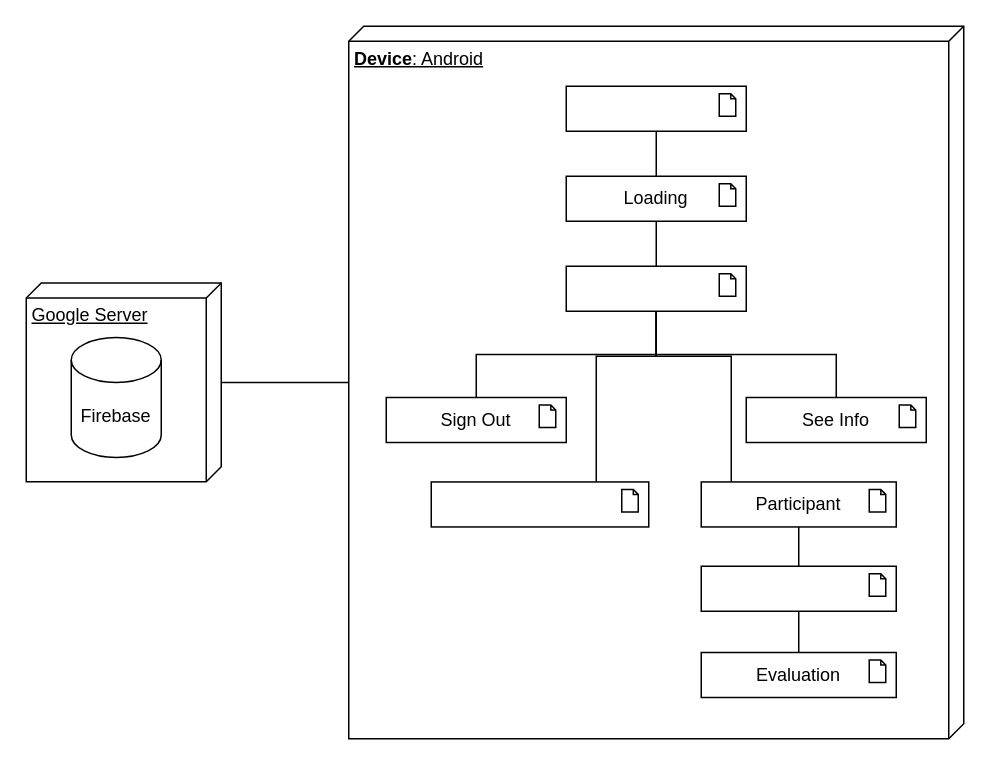
Some shapes in this 990 by 765 pixel diagram are drawn without their labels. Here are the shapes that lost their labels. From the top down, the centre of each, then its label:
At point 655,108: "Sign In".
At point 655,288: "Home".
At point 539,503: "Search".
At point 798,588: "Insert Code".
